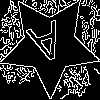A: (25, 20, 70, 74)
